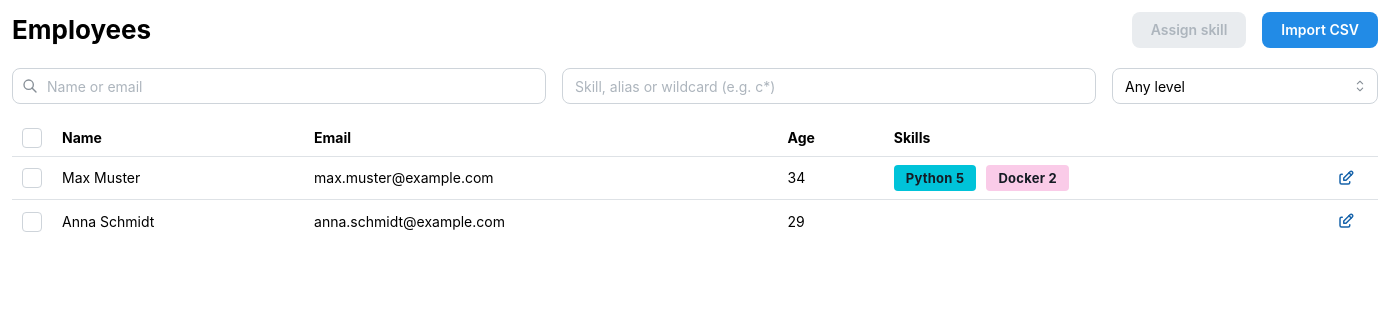
Test: EmployeeOverview › enables "Assign skill" only with a selection and shows the number of rows
The image size is (1390, 328).
Expected: the button "Assign skill" is disabled, [1132,12,1246,48]
Expected: the button "Assign skill" is shown, [1132,12,1246,48]
What coordinates should you click on to do the following:
click the checkbox named "Select Max Muster"
I would click on:
 (32, 178)
Its box is [22,168,42,188].
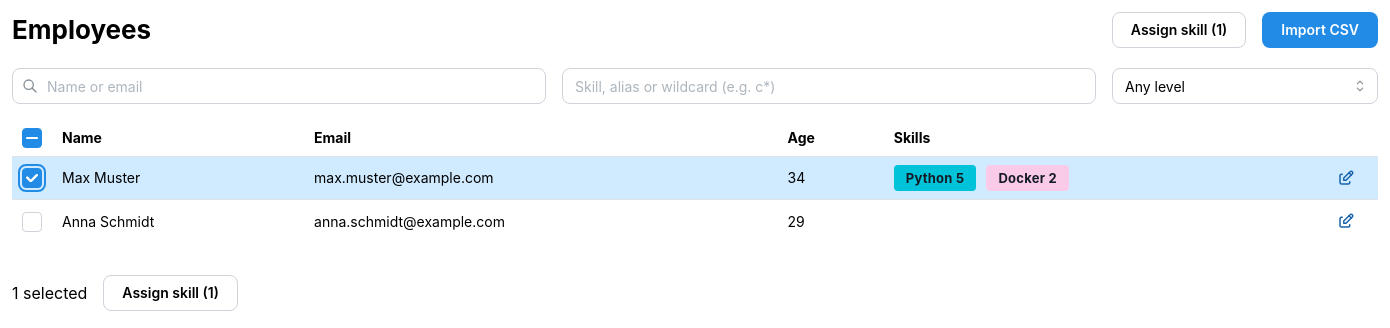
What coordinates should you click on to do the following:
click the checkbox named "Select Anna Schmidt"
I would click on:
 (32, 222)
Its box is [22,212,42,232].
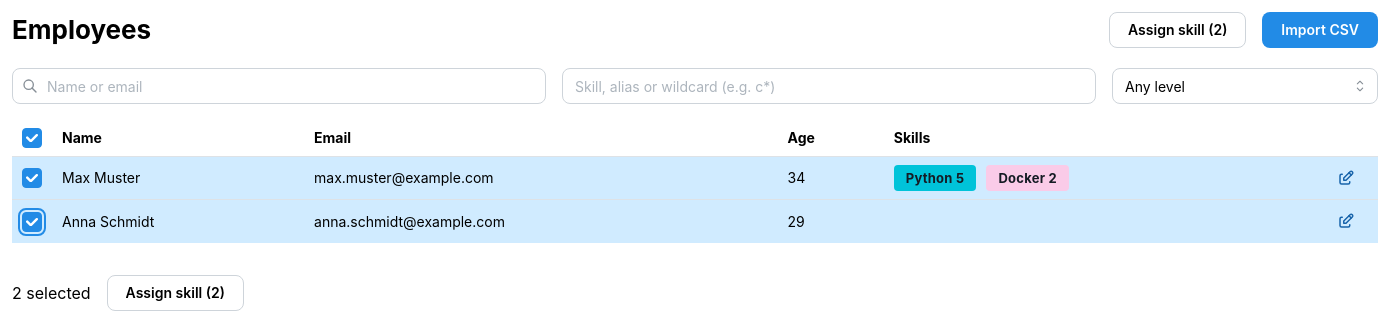
Expected: the button "Assign skill (2)" in the row of "Employees" is enabled, [1109,12,1246,48]
Expected: the button "Assign skill (2)" in the row of "Employees" is shown, [1109,12,1246,48]
